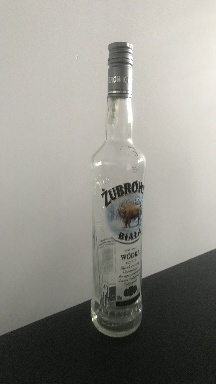butelka: (88, 38, 147, 339)
